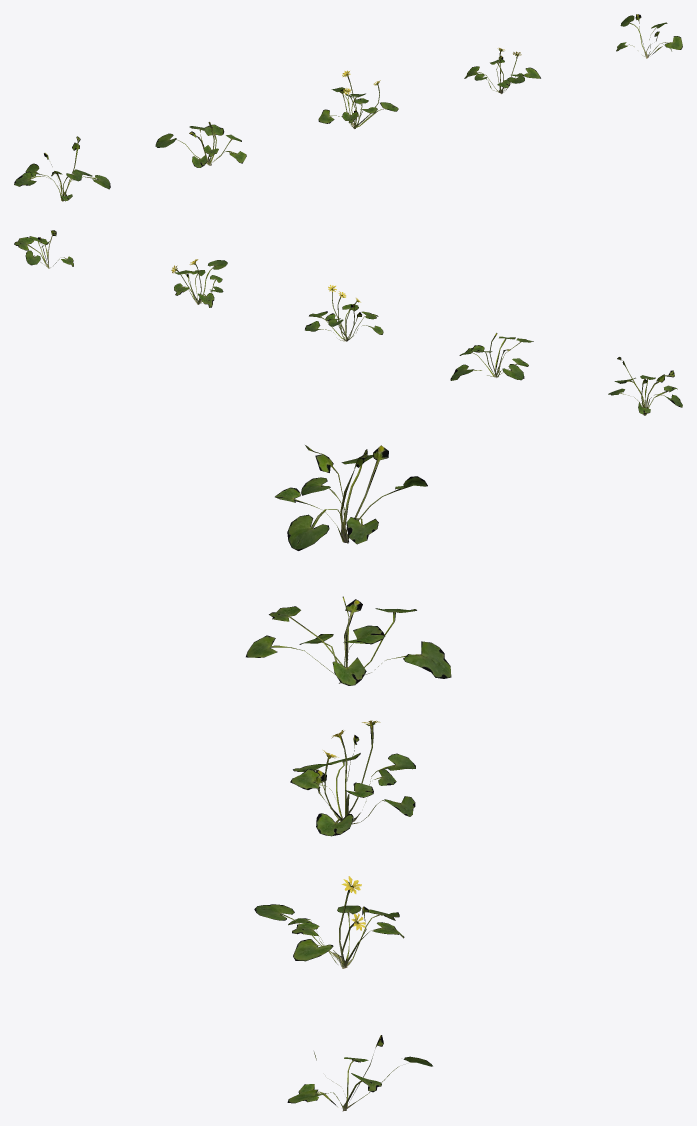
File: celandine_01.glb
3 renders of one model, top to bottom at view 1: azimuth 30°, elevation 25°; view 2: azimuth 150°, elevation 25°; view 3: azimuth 270°, elevation 25°, orthographic. The views are drawn at different scales.
Parts seen in each view (by area): view 1: celandine_01_b_LOD0, celandine_01_c_LOD0, celandine_01_a_LOD0, celandine_01_d_LOD0, celandine_01_e_LOD0; view 2: celandine_01_b_LOD0, celandine_01_c_LOD0, celandine_01_d_LOD0, celandine_01_a_LOD0, celandine_01_e_LOD0; view 3: celandine_01_b_LOD0, celandine_01_a_LOD0, celandine_01_c_LOD0, celandine_01_d_LOD0, celandine_01_e_LOD0.
Part boxes in pixels (x1,y1,x2,y2): celandine_01_b_LOD0: [155, 122, 246, 167]; celandine_01_c_LOD0: [318, 70, 398, 128]; celandine_01_a_LOD0: [14, 136, 110, 201]; celandine_01_d_LOD0: [464, 48, 540, 93]; celandine_01_e_LOD0: [616, 14, 682, 58]; celandine_01_b_LOD0: [450, 333, 533, 380]; celandine_01_c_LOD0: [305, 285, 383, 341]; celandine_01_d_LOD0: [171, 259, 227, 307]; celandine_01_a_LOD0: [608, 357, 682, 415]; celandine_01_e_LOD0: [14, 230, 73, 268]; celandine_01_b_LOD0: [246, 596, 451, 685]; celandine_01_a_LOD0: [275, 445, 427, 550]; celandine_01_c_LOD0: [290, 720, 415, 836]; celandine_01_d_LOD0: [254, 876, 404, 968]; celandine_01_e_LOD0: [287, 1035, 432, 1111].
Size of the model in its own units: 2.24 by 0.1858 by 0.3051.
1 material, 1 textured.
